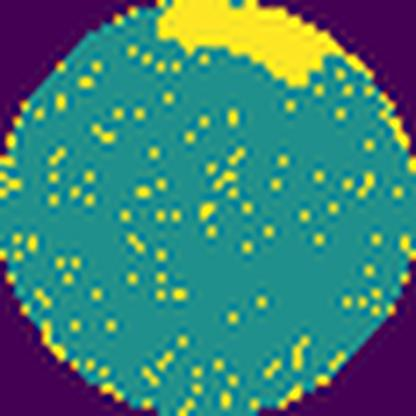Edge-Loc: (152, 0, 382, 89)
